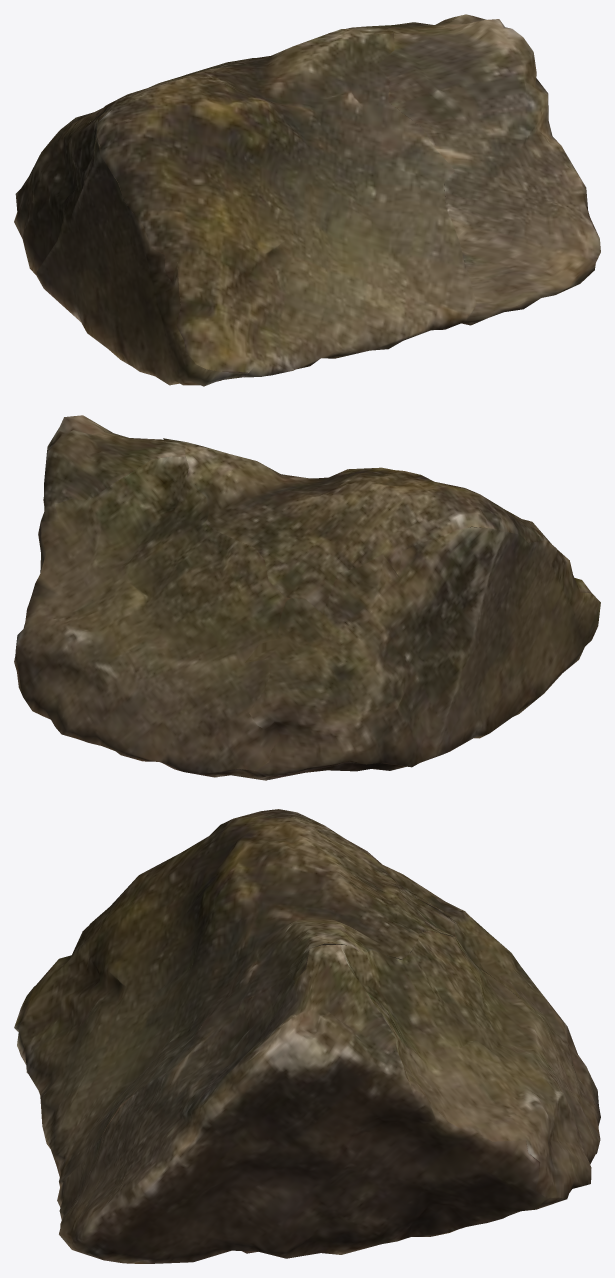
Rendered from scanned_boulder2.glb.
The picture shows the model from 3 angles, top to bottom: view 1: azimuth 30°, elevation 25°; view 2: azimuth 150°, elevation 25°; view 3: azimuth 270°, elevation 25°; orthographic projection. The views are drawn at different scales.
Parts seen in each view (by area): view 1: scanned_boulder2; view 2: scanned_boulder2; view 3: scanned_boulder2.
Boxes of the visible parts, x1,y1,x2,y2 form: scanned_boulder2: (14, 14, 600, 386); scanned_boulder2: (14, 415, 600, 780); scanned_boulder2: (14, 809, 600, 1263).
Bounding box in the file's own units: 3 × 1.56 × 2.96.
1 material, 1 textured.
